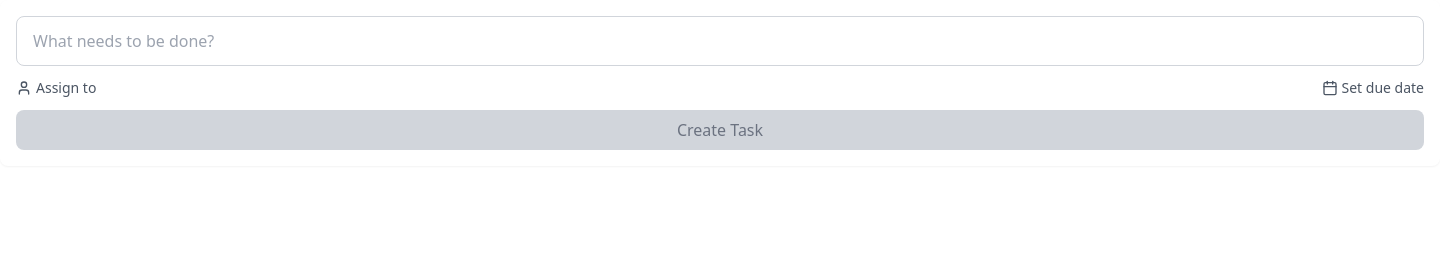
Scenario: TaskCreator › shows assignee dropdown when clicked
Click the button "Assign to": click(56, 88) [16, 78, 96, 98]
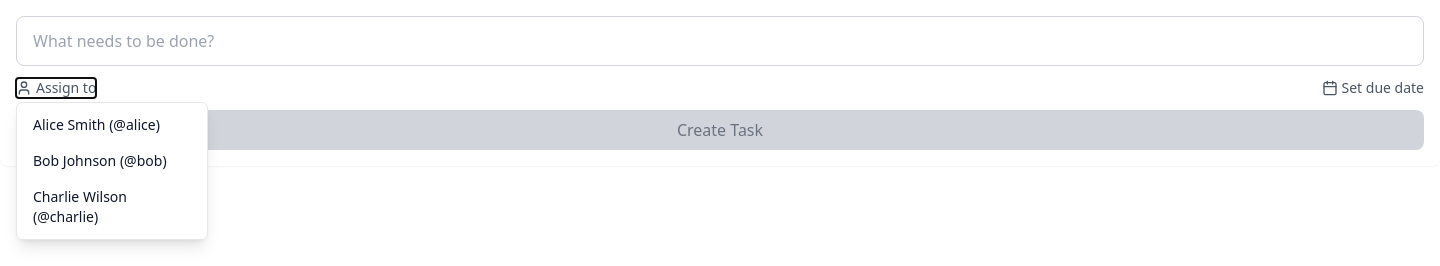
Result: the button "Alice Smith (@alice)" is shown at [17, 107, 207, 143]
Result: the button "Bob Johnson (@bob)" is shown at [17, 143, 207, 179]
Result: the button "Charlie Wilson (@charlie)" is shown at [17, 179, 207, 235]
